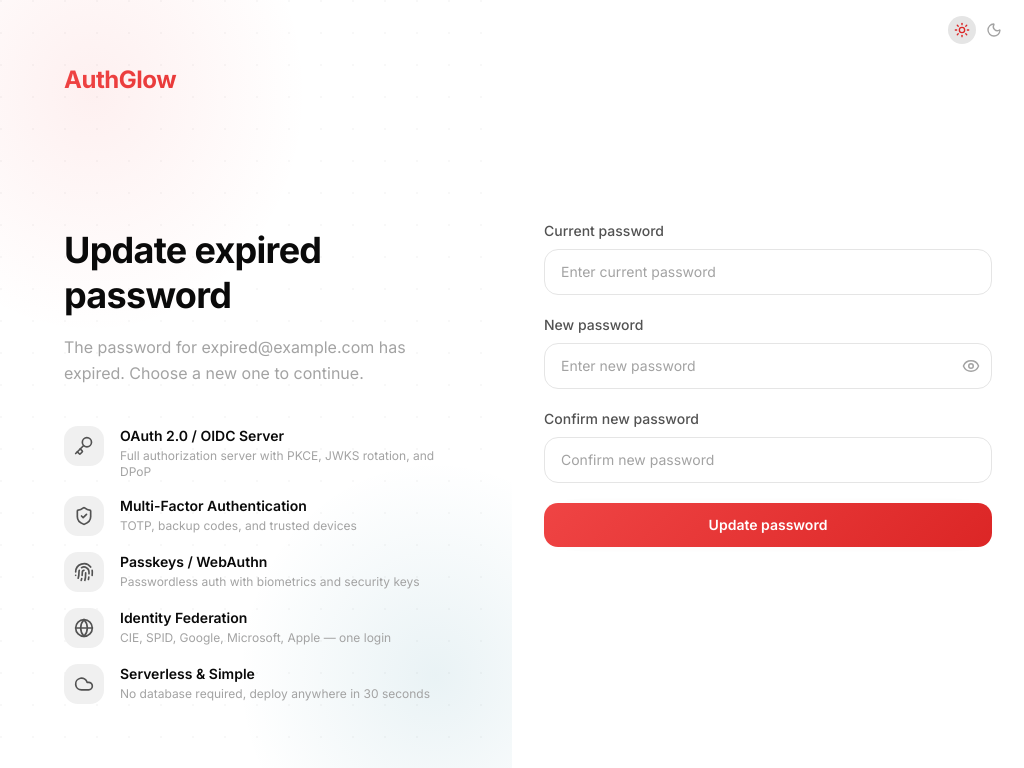
Test: ForceChangePasswordPage › blocks submit with validation errors when passwords do not match
The width and height of the screenshot is (1024, 768).
Type "OldP@ssw0rd!" into the password field with test id "force-change-current" at x=768, y=272, box top-left (544, 249), bottom-right (992, 295)
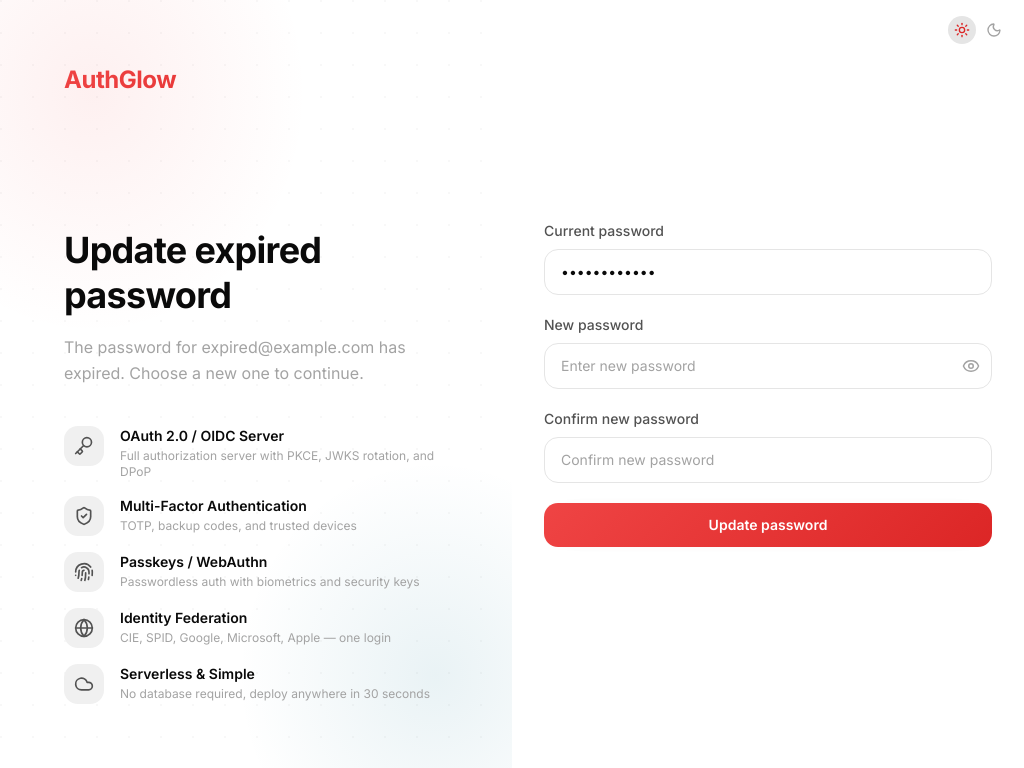
Type "NewP@ssw0rd!" into the password field with test id "force-change-new" at x=768, y=366, box top-left (544, 343), bottom-right (992, 389)
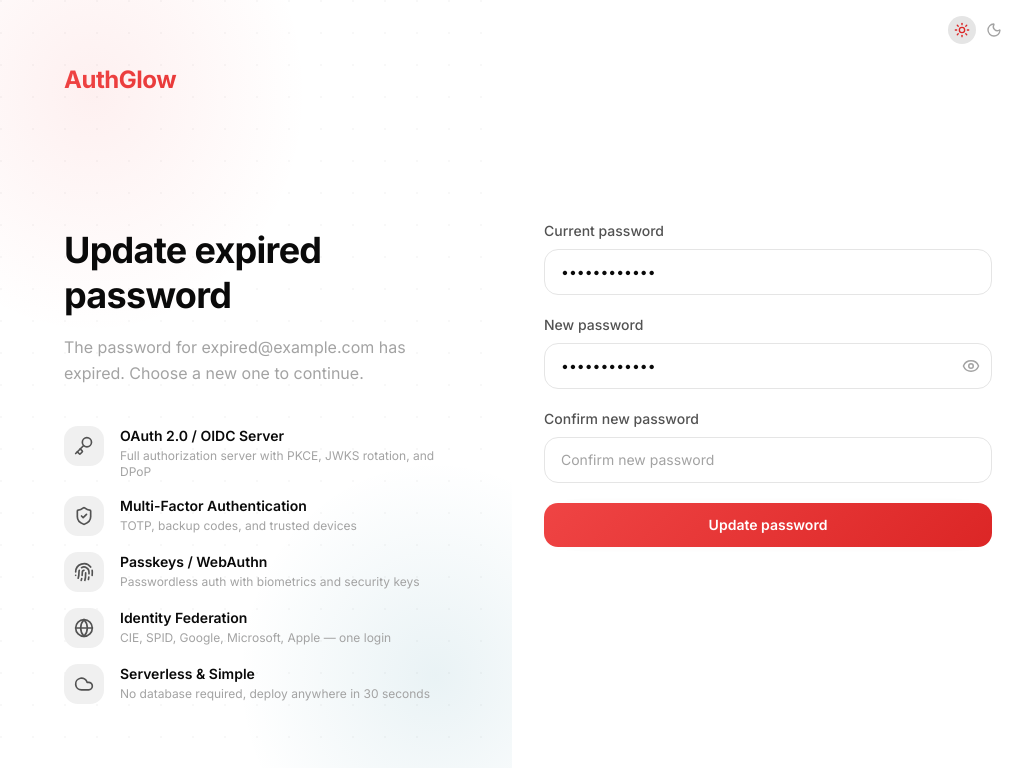
Type "Different1!" into the password field with test id "force-change-confirm" at x=768, y=460, box top-left (544, 437), bottom-right (992, 483)
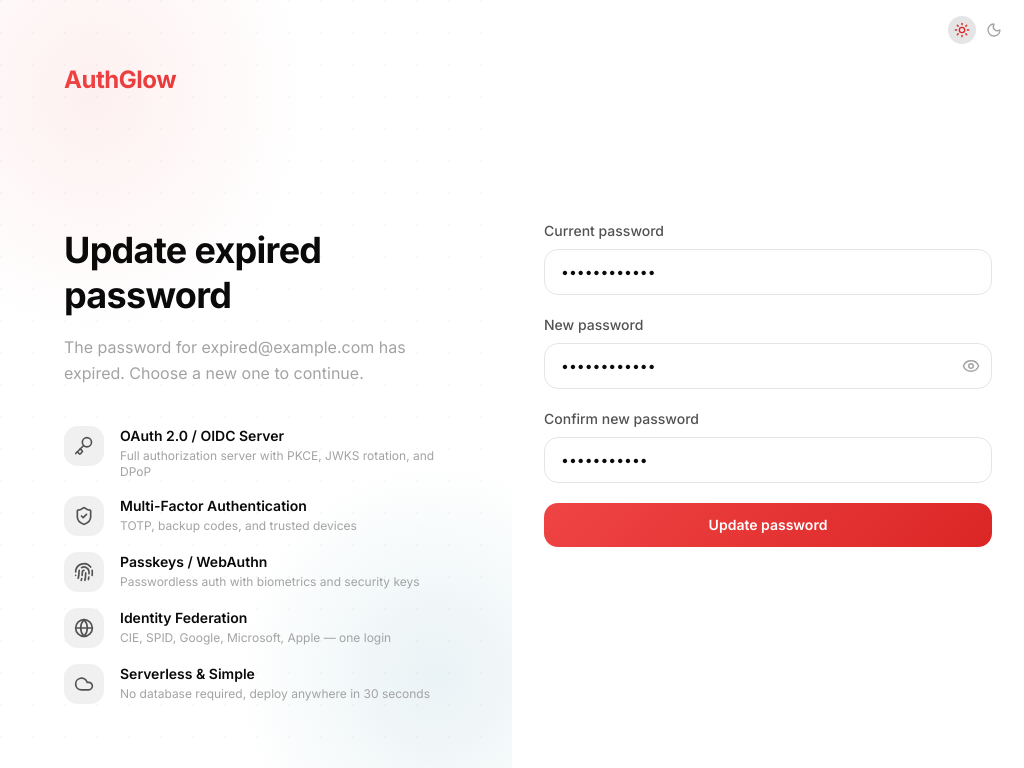
Click the button with test id "force-change-submit" at x=768, y=525, box top-left (544, 503), bottom-right (992, 547)
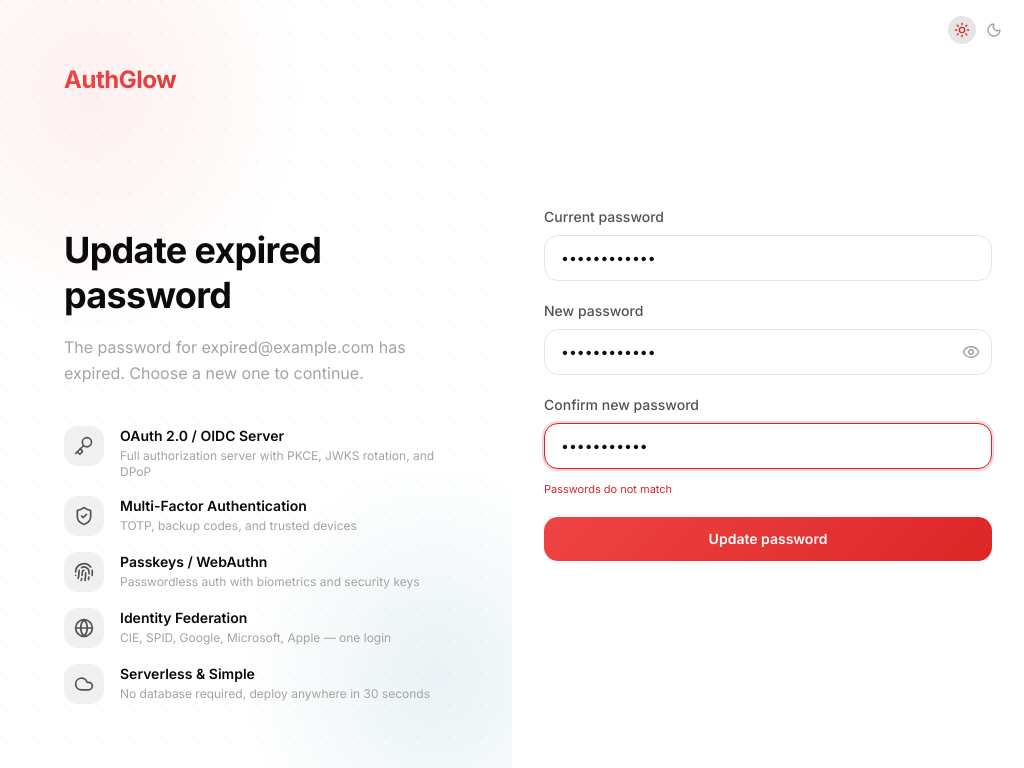
Expected: the text "Passwords do not match" is shown, top-left (544, 482), bottom-right (672, 496)
